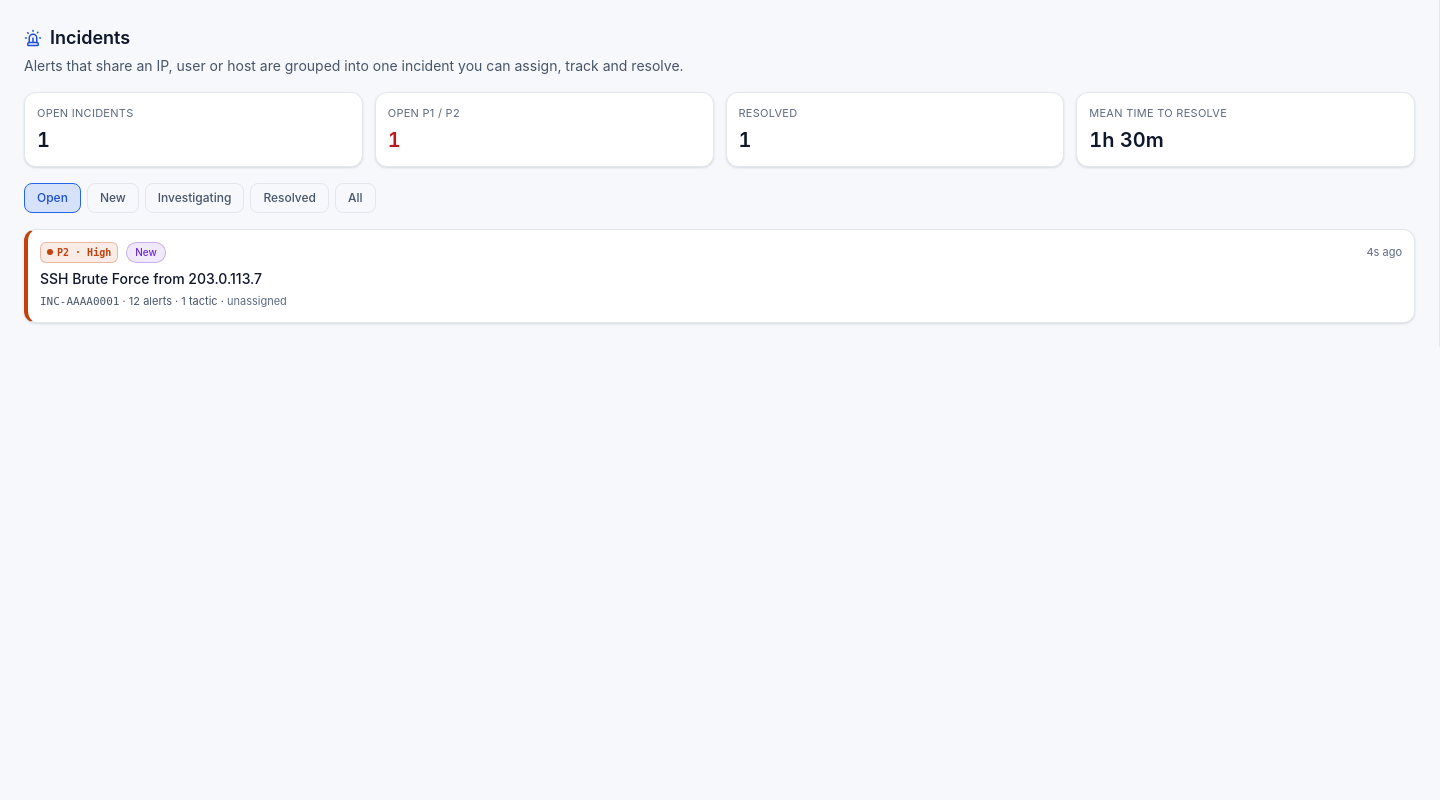
Test: Incident AI actions › starts an investigation on demand
Click the text "SSH Brute Force from 203.0.113.7". click: (151, 278)
box: [40,270,262,286]
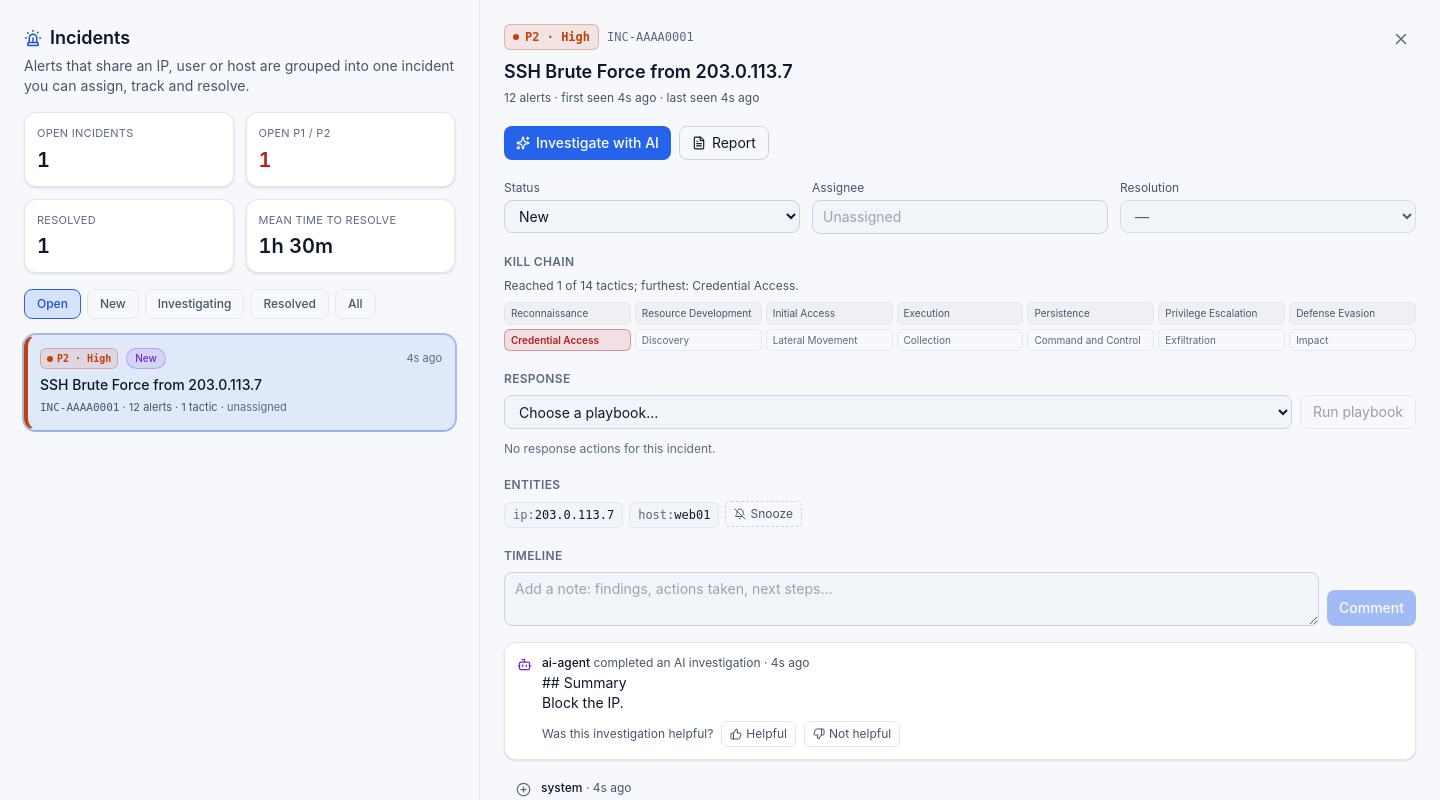
Click the button "Investigate with AI". click: (587, 143)
box: [504,126,671,160]
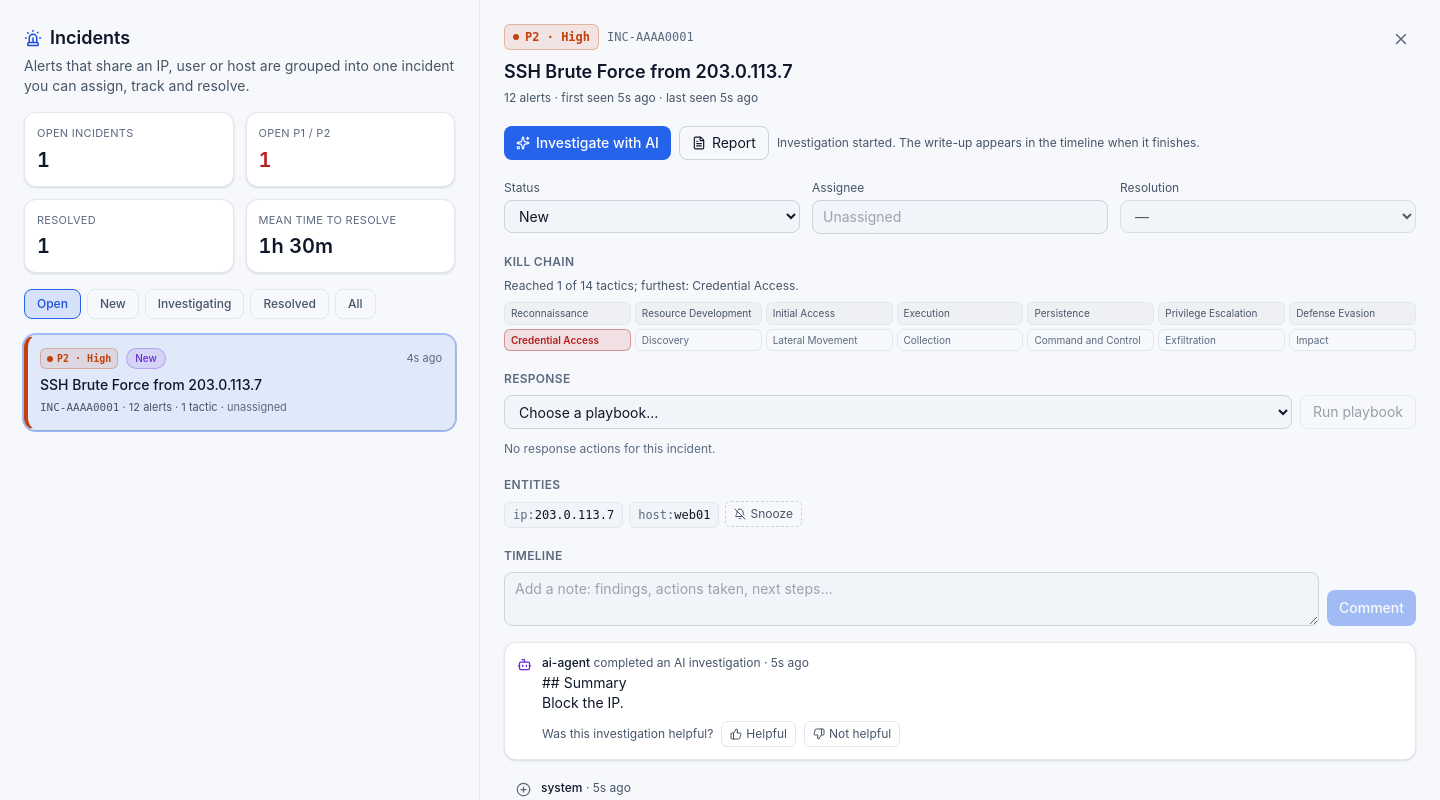
Expected: the message shows "Investigation started", [777,135,1200,150]
